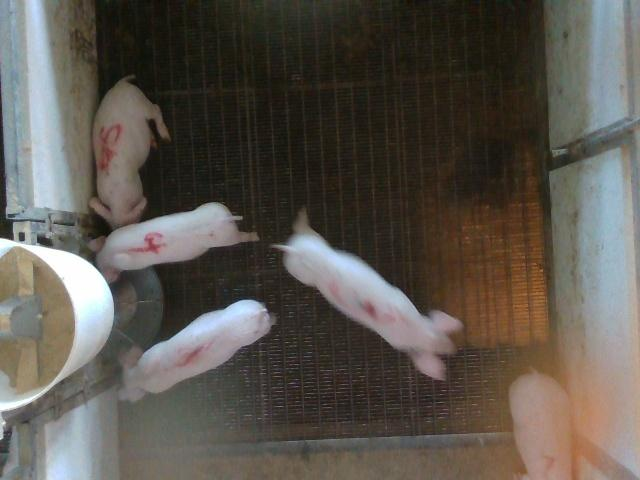pig-1: (119, 300, 275, 402)
pig-3: (274, 211, 462, 379)
pig-4: (90, 202, 259, 282)
pig-5: (90, 75, 170, 229)
